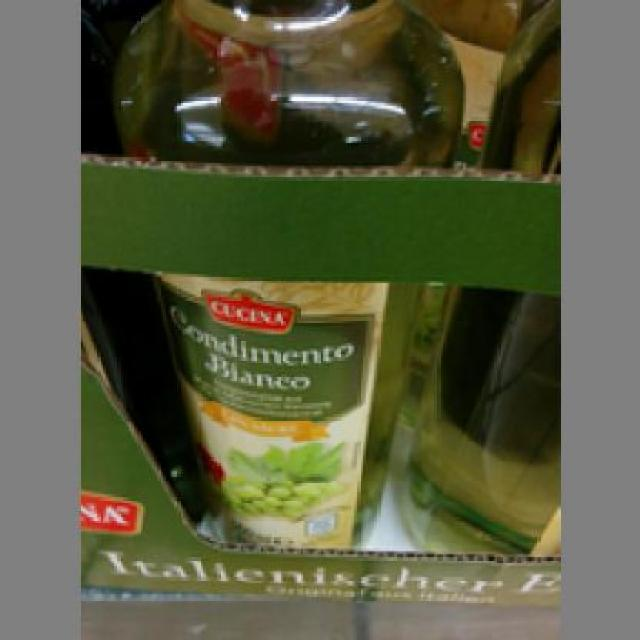Vinegar: (117, 0, 463, 572)
